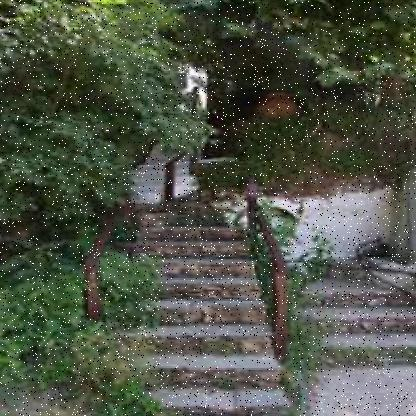stair_up: (101, 236, 299, 416)
